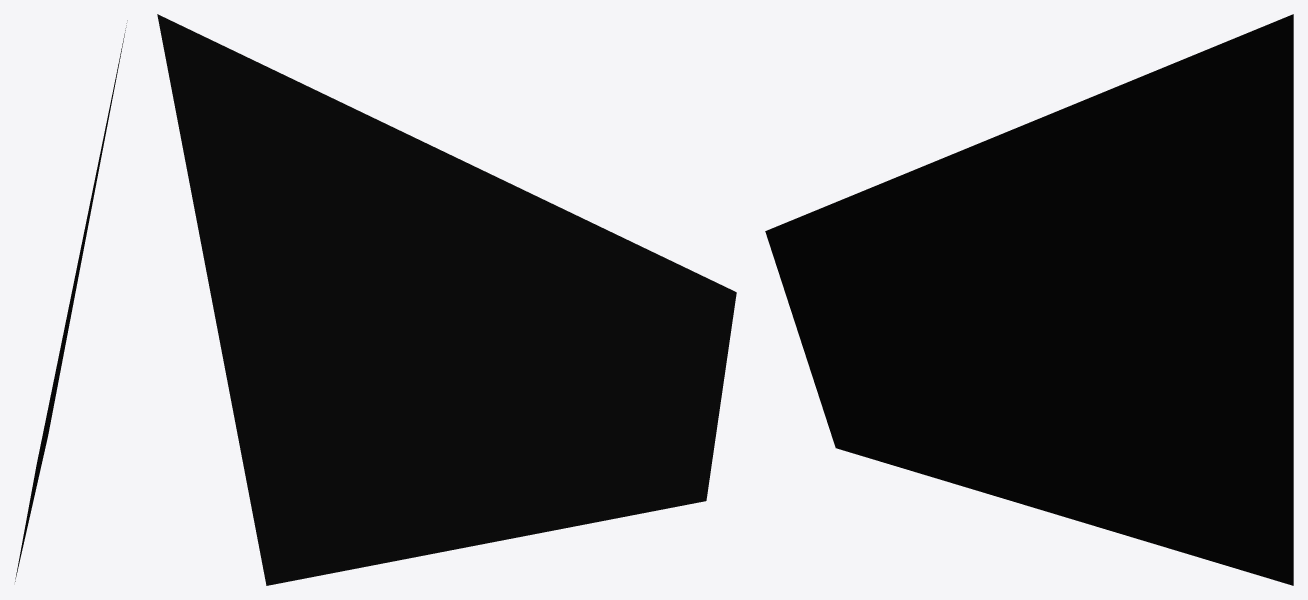
3 renders of one model, left to right at view 1: azimuth 30°, elevation 25°; view 2: azimuth 150°, elevation 25°; view 3: azimuth 270°, elevation 25°, orthographic. The views are drawn at different scales.
Bounding box in the file's own units: 3.06 × 4.52 × 3.42.
Materials: 1 (1 with a texture image).
